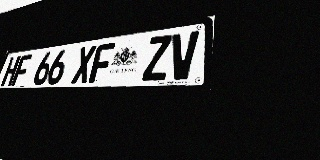6: (45, 49, 69, 85), (32, 51, 55, 85)
F: (88, 42, 115, 83), (11, 54, 33, 86)
H: (0, 56, 21, 86)
V: (168, 30, 199, 80)
X: (71, 45, 96, 84)
Z: (142, 34, 172, 81)
